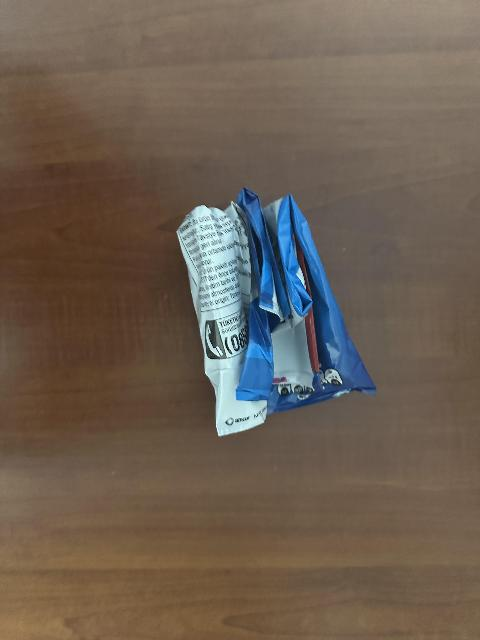Plastik: (170, 197, 381, 432)
